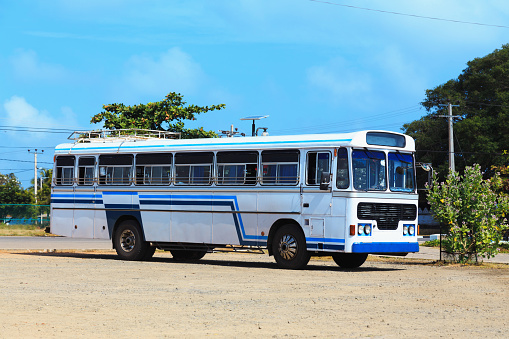bus: (49, 130, 419, 269)
